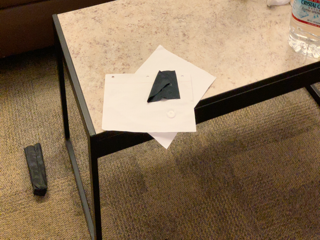Edge: (43, 1, 317, 233)
